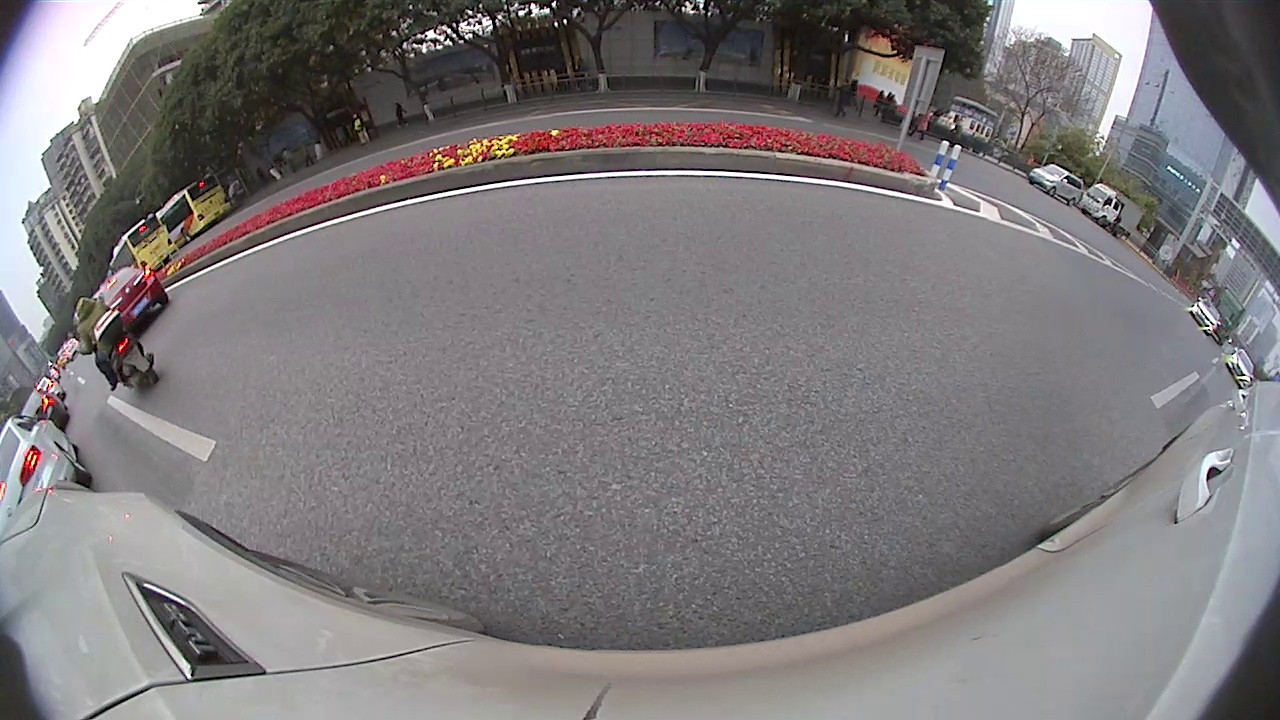bus: (146, 166, 233, 243), (104, 205, 184, 274)
car: (0, 411, 94, 527), (92, 263, 169, 329), (1029, 161, 1086, 208), (16, 385, 66, 429), (1226, 343, 1256, 386), (1192, 290, 1219, 336)
person: (921, 106, 930, 143)
rider: (68, 294, 159, 397)
truck: (1076, 182, 1145, 241)
